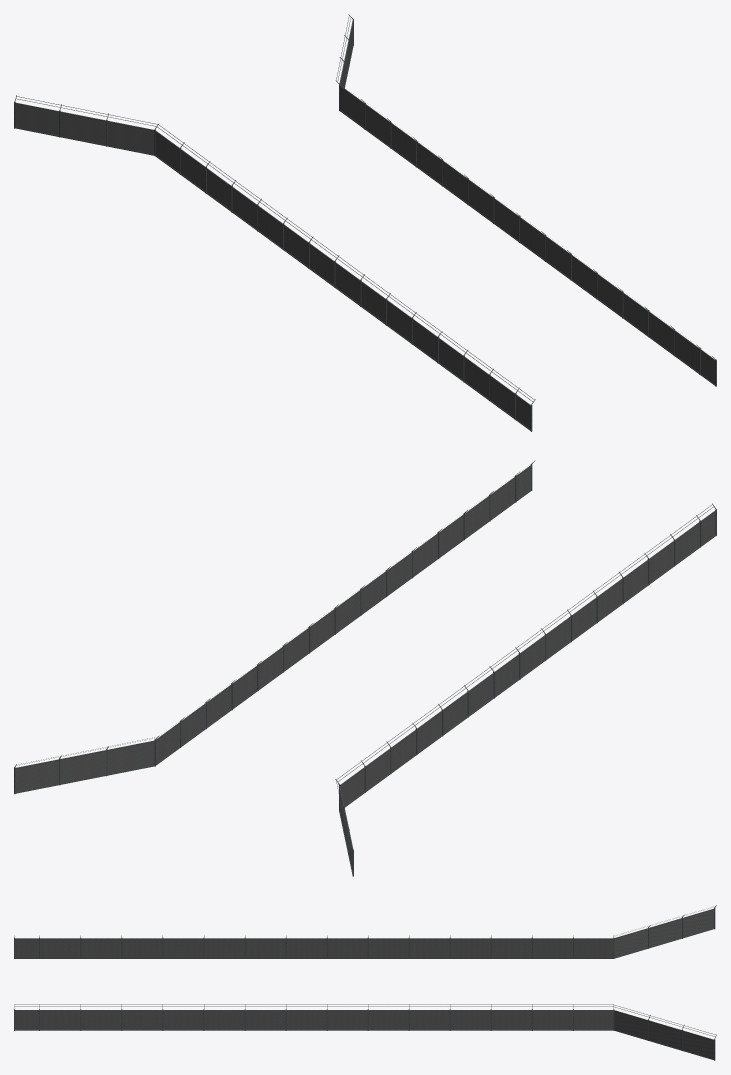
File: Fence.fbx
3 renders of one model, top to bottom at view 1: azimuth 30°, elevation 25°; view 2: azimuth 150°, elevation 25°; view 3: azimuth 270°, elevation 25°, orthographic. The views are drawn at different scales.
Visible parts, largest first — view 1: Fence; view 2: Fence; view 3: Fence.
Boxes of the visible parts, <box> form: Fence: <box>14,14,716,431</box>; Fence: <box>14,460,716,876</box>; Fence: <box>14,905,716,1060</box>.
Bounding box in the file's own units: 7265 × 644 × 16346.
